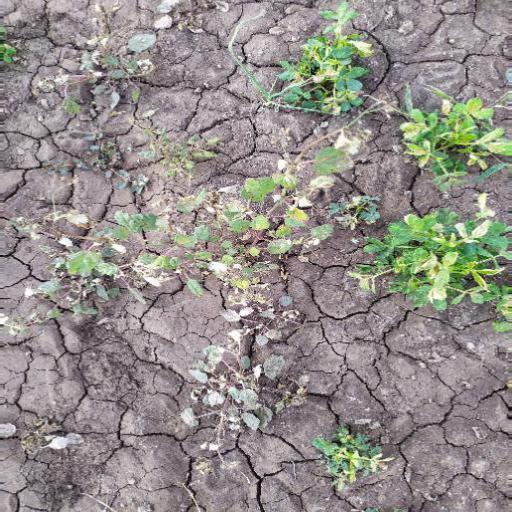weed: (148, 339, 392, 495), (79, 175, 350, 293), (363, 201, 512, 313), (228, 28, 398, 122)
